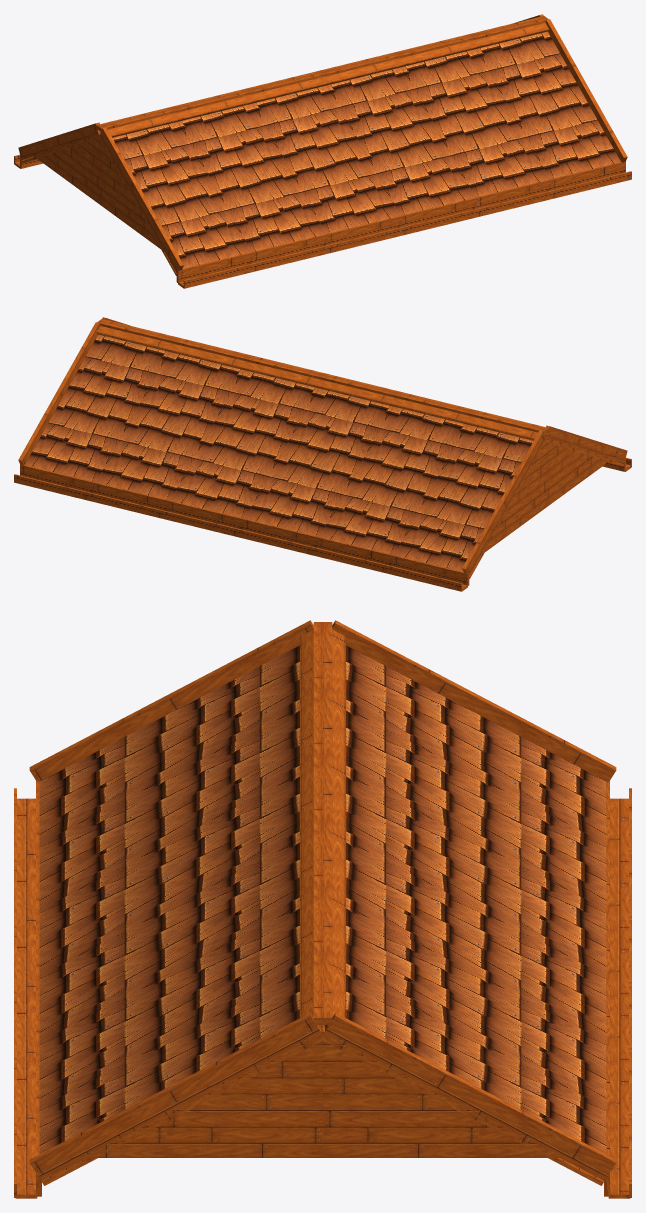
The model's file is Roof_Gable_3x6.fbx.
The picture shows the model from 3 angles, top to bottom: view 1: azimuth 30°, elevation 25°; view 2: azimuth 150°, elevation 25°; view 3: azimuth 270°, elevation 25°; orthographic projection. The views are drawn at different scales.
Parts seen in each view (by area): view 1: Roof_Gable_3x6; view 2: Roof_Gable_3x6; view 3: Roof_Gable_3x6.
Part boxes in pixels (x1,y1,x2,y2): Roof_Gable_3x6: [14, 14, 631, 288]; Roof_Gable_3x6: [14, 317, 631, 591]; Roof_Gable_3x6: [14, 620, 631, 1198].
Bounding box in the file's own units: 6 × 1.29 × 3.96.
